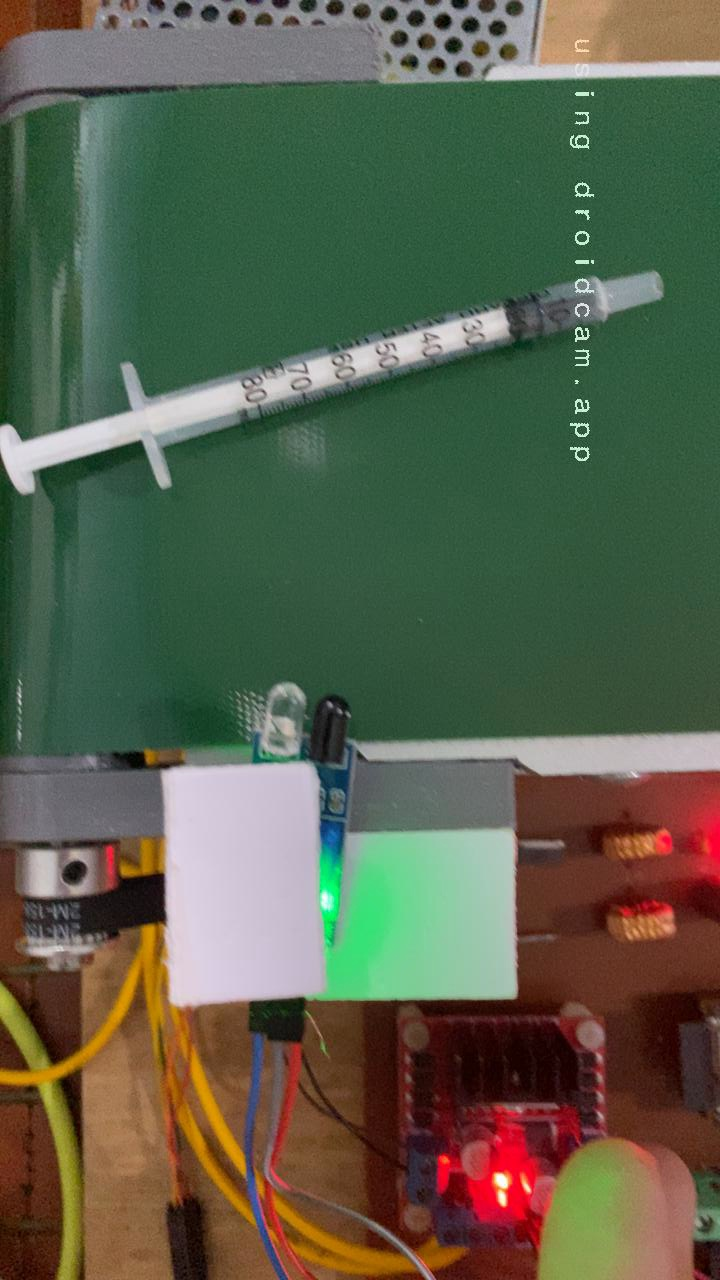syringe: (0, 265, 671, 504)
